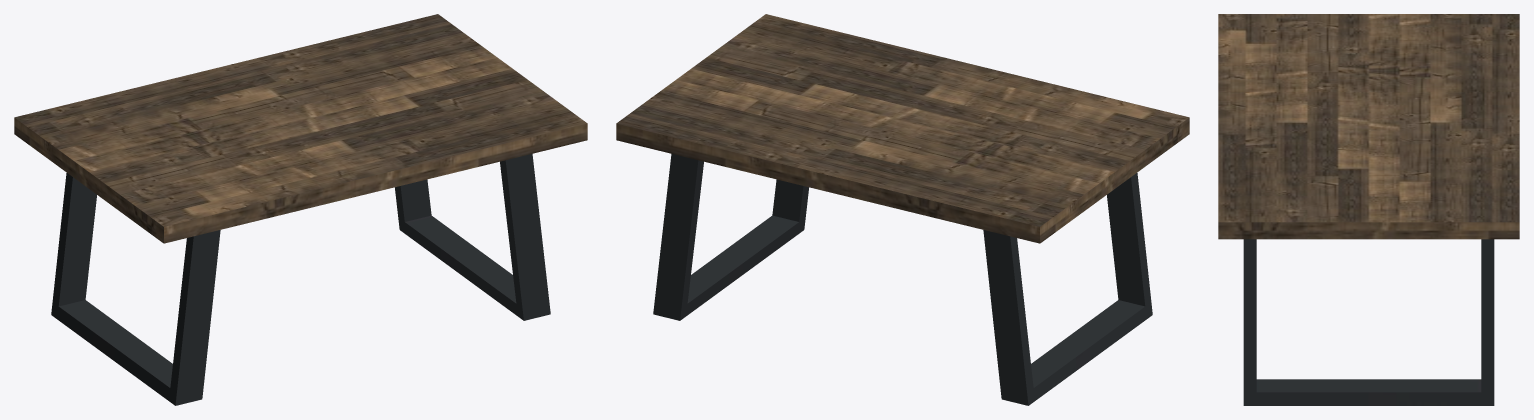
Rendered from Table_43.glb.
3 renders of one model, left to right at view 1: azimuth 30°, elevation 25°; view 2: azimuth 150°, elevation 25°; view 3: azimuth 270°, elevation 25°, orthographic.
Visible parts, largest first — view 1: Table_43; view 2: Table_43; view 3: Table_43.
Boxes of the visible parts, bbox=[...] form: Table_43: bbox=[14, 14, 587, 405]; Table_43: bbox=[616, 14, 1189, 405]; Table_43: bbox=[1218, 14, 1519, 405].
Bounding box in the file's own units: 1.15 × 0.5048 × 0.7048.
Materials: 2 (2 with a texture image).
